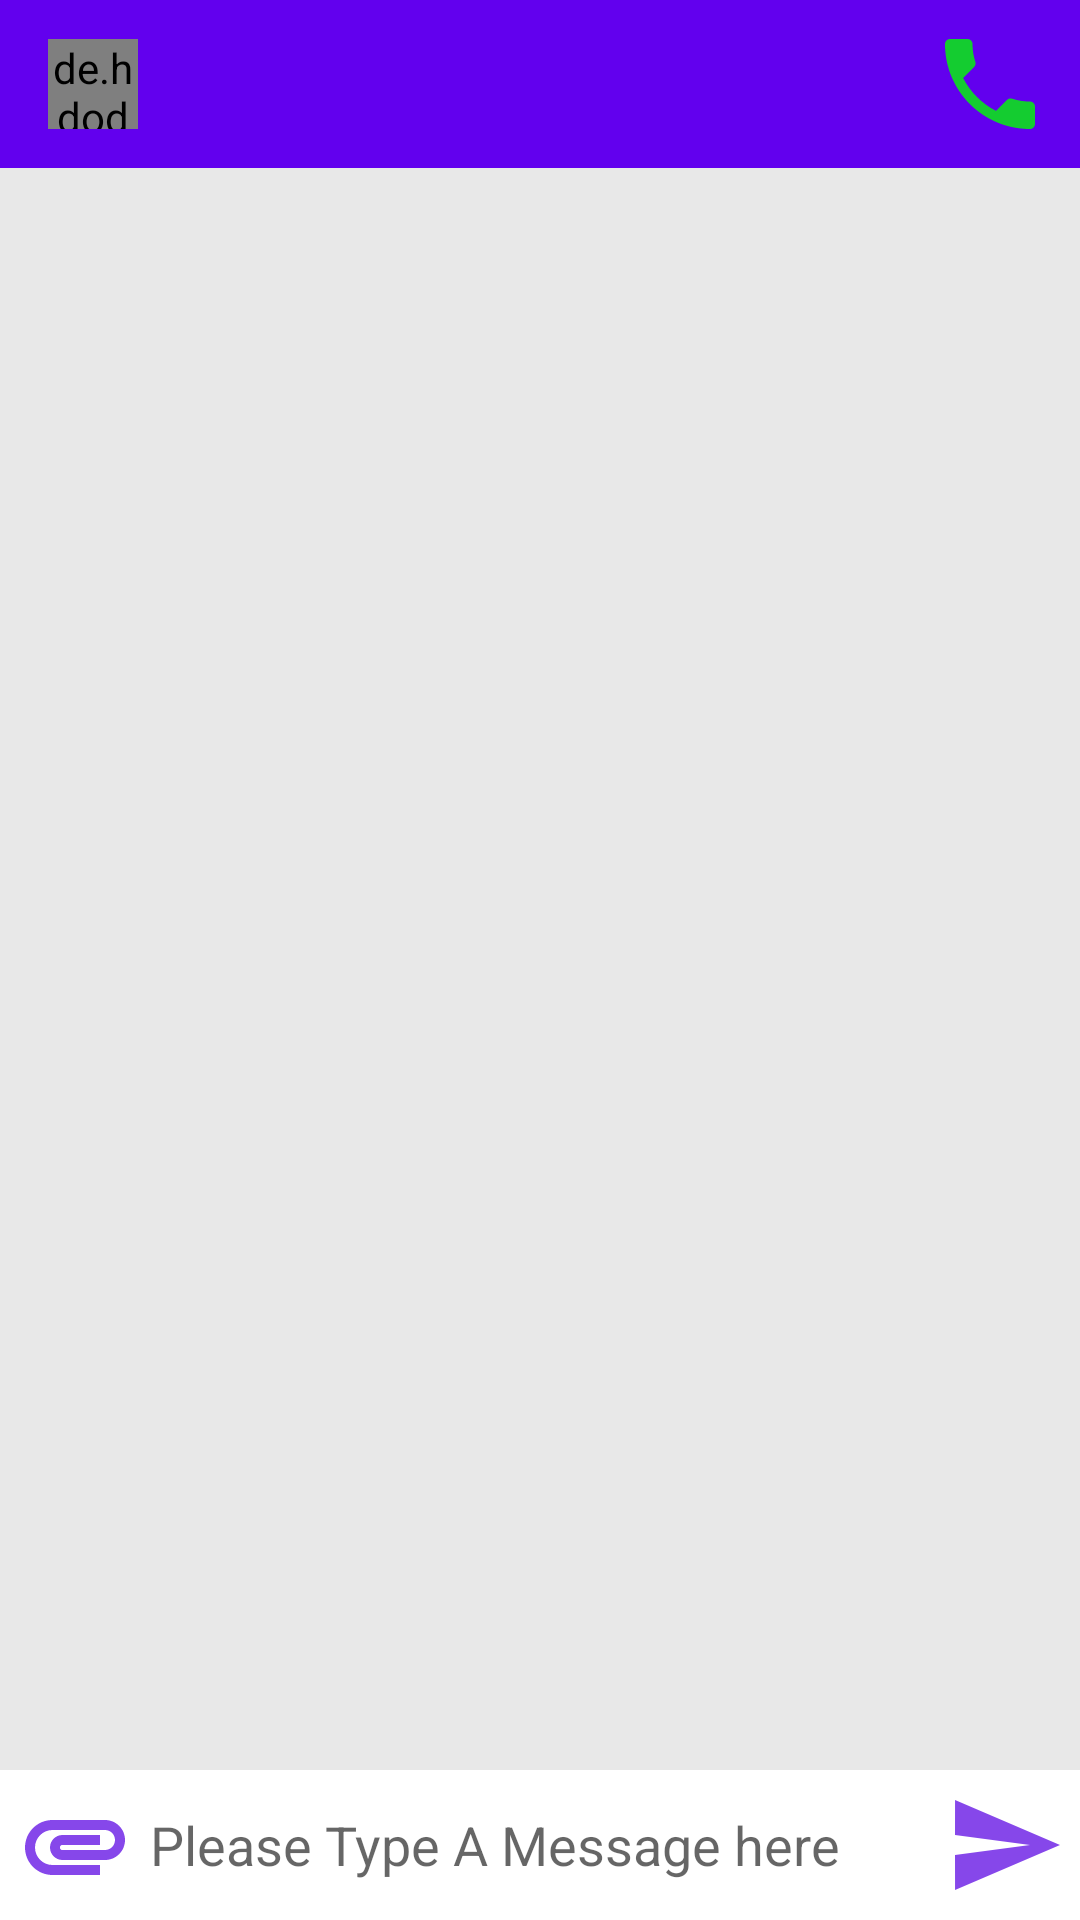

Icon click points for this 1080px x 1920px phone screenshot, format point (x, y):
attachment: point (75, 1847)
call: point (990, 84)
send: point (1007, 1845)
